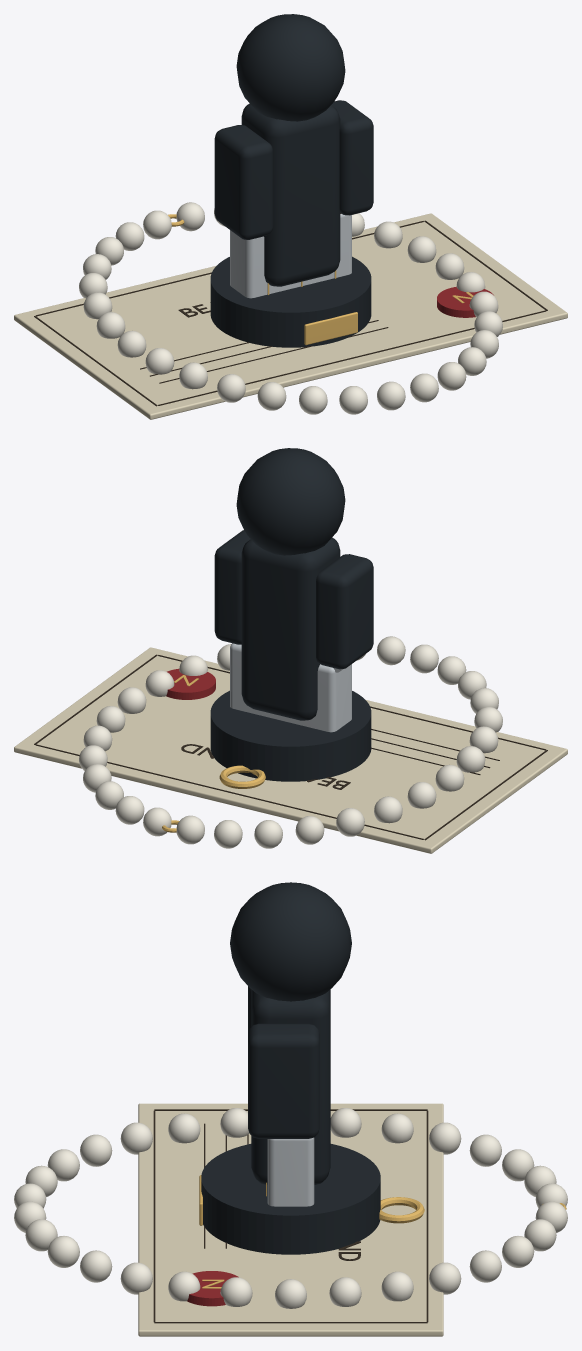
The model's file is valuable-props.glb.
3 renders of one model, top to bottom at view 1: azimuth 30°, elevation 25°; view 2: azimuth 150°, elevation 25°; view 3: azimuth 270°, elevation 25°, orthographic. The views are drawn at different scales.
Visible parts, largest first — view 1: obsidian-idolMesh, sealed-bondMesh, pearl-necklaceMesh, old-silver-lighterMesh; view 2: obsidian-idolMesh, sealed-bondMesh, pearl-necklaceMesh, old-silver-lighterMesh, gold-cased-watchMesh; view 3: sealed-bondMesh, obsidian-idolMesh, pearl-necklaceMesh, old-silver-lighterMesh, gold-cased-watchMesh.
Part boxes in pixels (x1=…): obsidian-idolMesh: x1=210, y1=14, x2=373, y2=347; sealed-bondMesh: x1=14, y1=213, x2=567, y2=419; pearl-necklaceMesh: x1=79, y1=202, x2=502, y2=414; old-silver-lighterMesh: x1=230, y1=213, x2=351, y2=298; obsidian-idolMesh: x1=210, y1=448, x2=373, y2=781; sealed-bondMesh: x1=14, y1=647, x2=567, y2=853; pearl-necklaceMesh: x1=79, y1=636, x2=502, y2=848; old-silver-lighterMesh: x1=230, y1=643, x2=351, y2=732; gold-cased-watchMesh: x1=219, y1=765, x2=265, y2=788; sealed-bondMesh: x1=138, y1=1103, x2=443, y2=1336; obsidian-idolMesh: x1=199, y1=882, x2=380, y2=1254; pearl-necklaceMesh: x1=14, y1=1108, x2=567, y2=1308; old-silver-lighterMesh: x1=266, y1=1137, x2=314, y2=1206; gold-cased-watchMesh: x1=379, y1=1197, x2=424, y2=1223.
Bounding box in the file's own units: 0.15 × 0.1155 × 0.1542.
